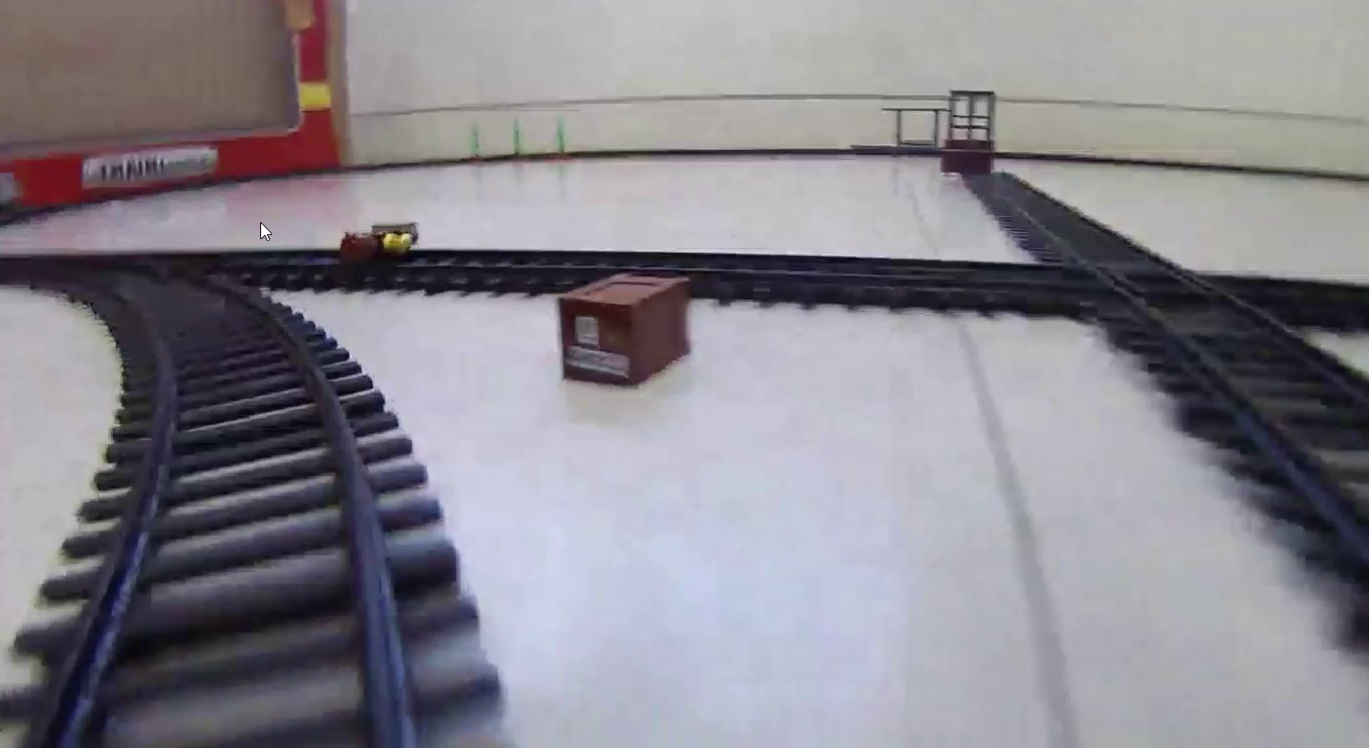box: (557, 272, 688, 389)
